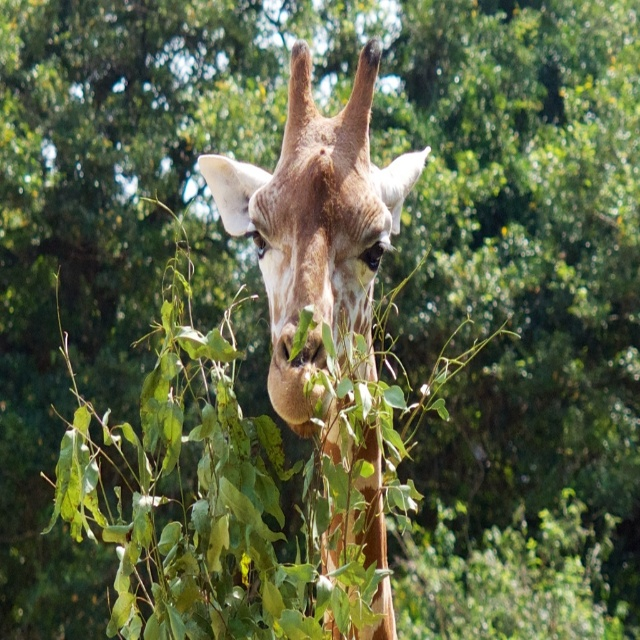Giraffe: (195, 37, 432, 639)
